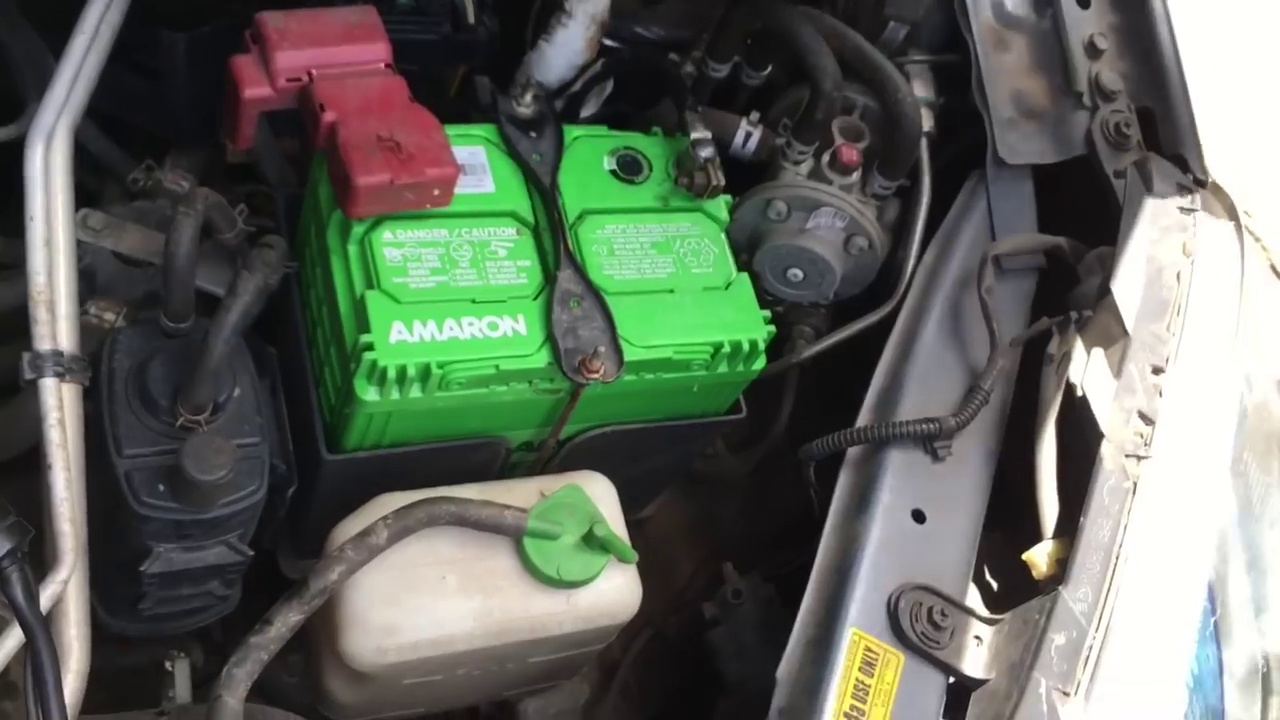battery: (301, 98, 761, 385)
neg_connected: (674, 110, 738, 220)
pos_connected: (281, 42, 436, 218)
